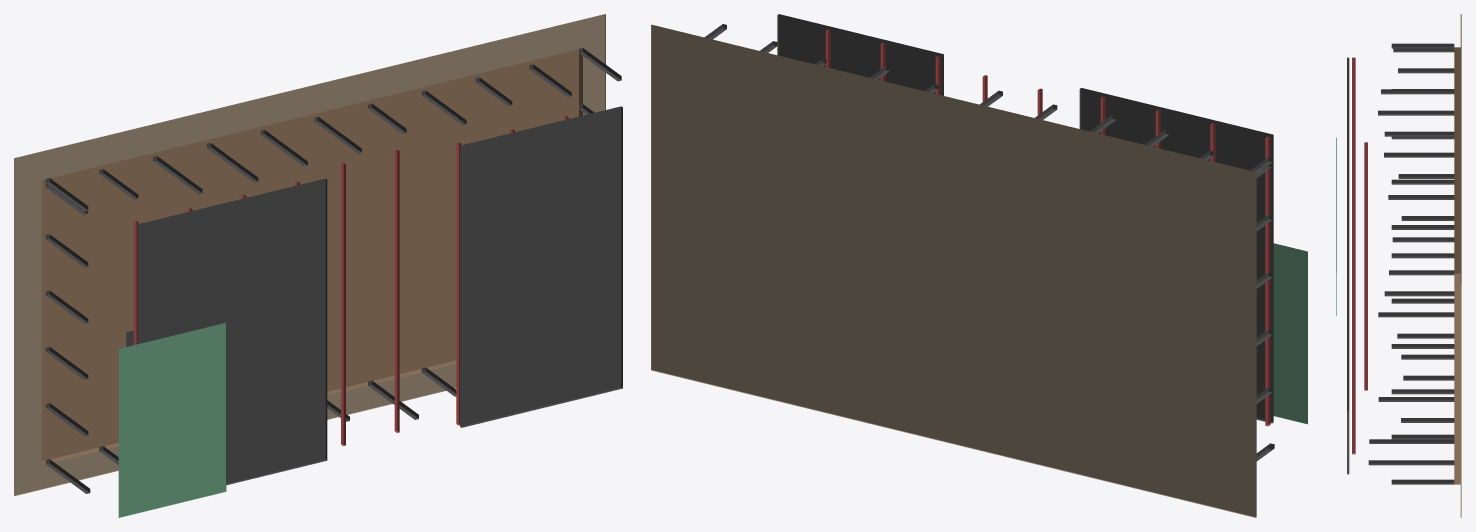
The model's file is mobile_home_stabilization.glb.
The picture shows the model from 3 angles, left to right: view 1: azimuth 30°, elevation 25°; view 2: azimuth 150°, elevation 25°; view 3: azimuth 270°, elevation 25°; orthographic projection. The views are drawn at different scales.
Bounding box in the file's own units: 44 × 24 × 10.05.
